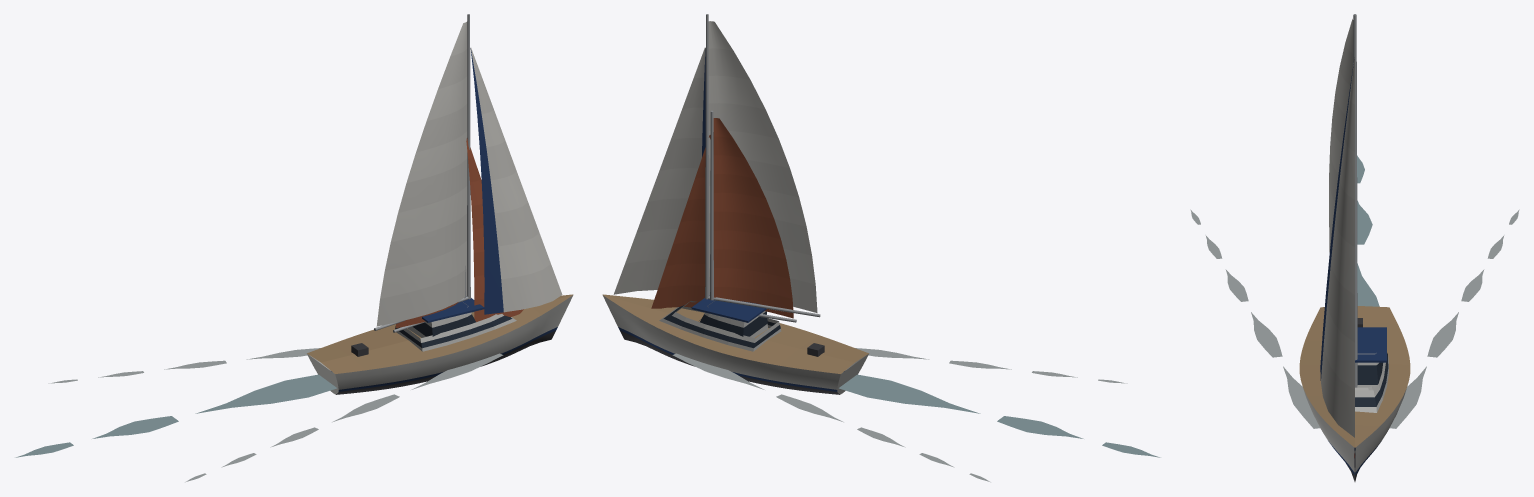
File: coast-boats.glb
3 renders of one model, left to right at view 1: azimuth 30°, elevation 25°; view 2: azimuth 150°, elevation 25°; view 3: azimuth 270°, elevation 25°, orthographic. The views are drawn at different scales.
Parts seen in each view (by area): view 1: sailboat_a, motorboat, sailboat_b; view 2: sailboat_a, sailboat_b, motorboat; view 3: sailboat_a, motorboat.
Boxes of the visible parts, bbox=[...] form: sailboat_a: bbox=[307, 14, 573, 394]; motorboat: bbox=[15, 296, 503, 482]; sailboat_b: bbox=[393, 138, 523, 332]; sailboat_a: bbox=[602, 14, 868, 394]; sailboat_b: bbox=[651, 110, 796, 322]; motorboat: bbox=[672, 295, 1160, 482]; sailboat_a: bbox=[1299, 14, 1410, 481]; motorboat: bbox=[1190, 155, 1519, 455].
Size of the model in its own units: 23.25 by 14 by 9.78.
